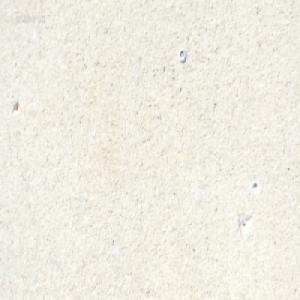Washer: (178, 47, 186, 62)
